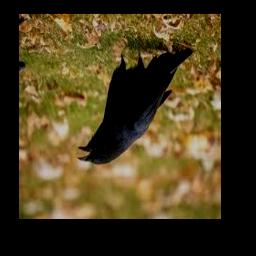Crow: (77, 38, 194, 165)
